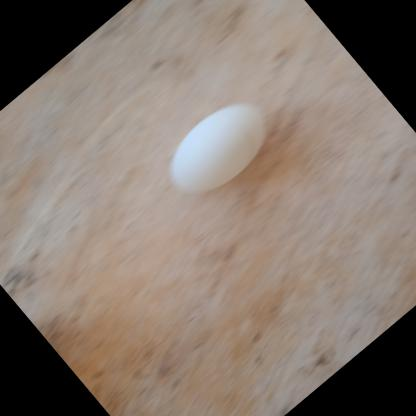Tabel Tennis: (148, 81, 290, 216)
